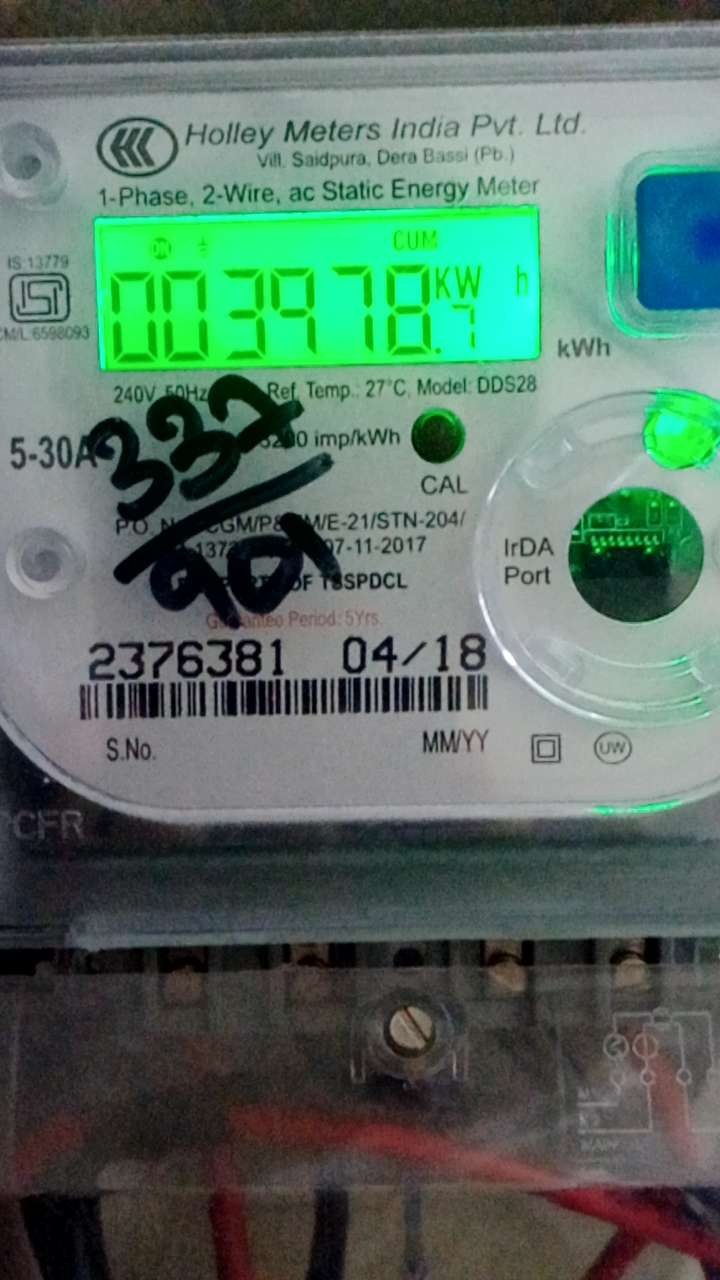meter_serial_number: (83, 635, 292, 685)
